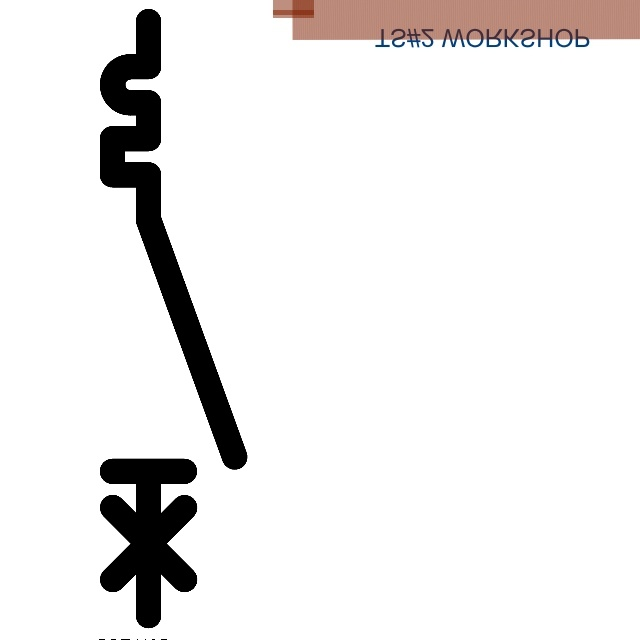interruptor_termomagnetico: (97, 6, 250, 630)
